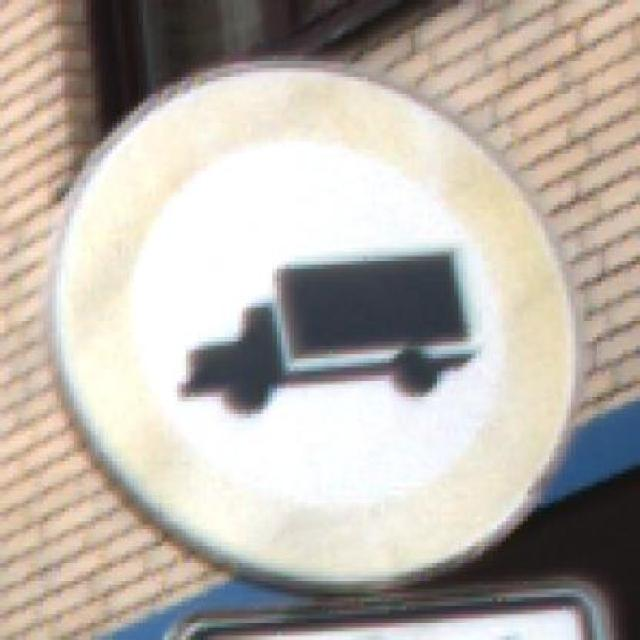Truck traffic is prohibited: (47, 29, 588, 585)
